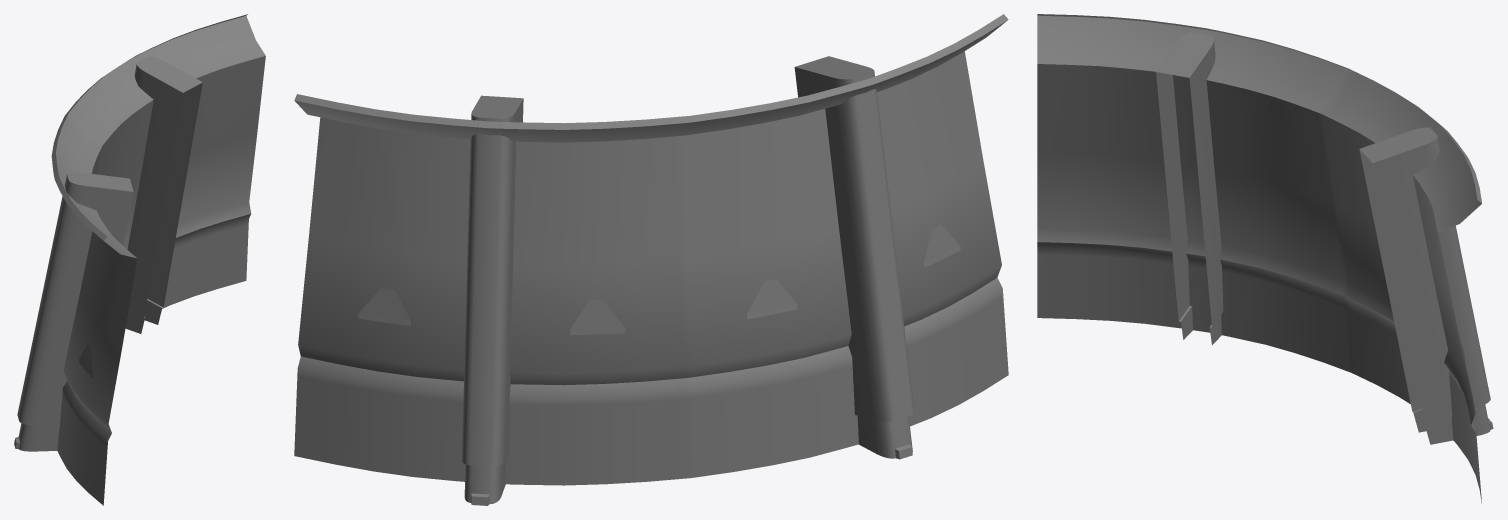
File: q-scifi-mod-wallastra-corner-round-outer.glb
The picture shows the model from 3 angles, left to right: view 1: azimuth 30°, elevation 25°; view 2: azimuth 150°, elevation 25°; view 3: azimuth 270°, elevation 25°; orthographic projection. The views are drawn at different scales.
Visible parts, largest first — view 1: WallAstra_Corner_Round_Outer; view 2: WallAstra_Corner_Round_Outer; view 3: WallAstra_Corner_Round_Outer.
Boxes of the visible parts, x1,y1,x2,y2 form: WallAstra_Corner_Round_Outer: (14,14,265,505); WallAstra_Corner_Round_Outer: (294,14,1008,505); WallAstra_Corner_Round_Outer: (1037,14,1493,503).
Size of the model in its own units: 4.1 by 3.04 by 4.1.
5 materials, 5 textured.
